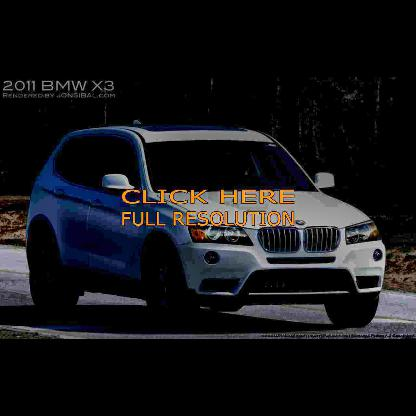BMW X3 SUV 2012: (26, 121, 387, 328)
